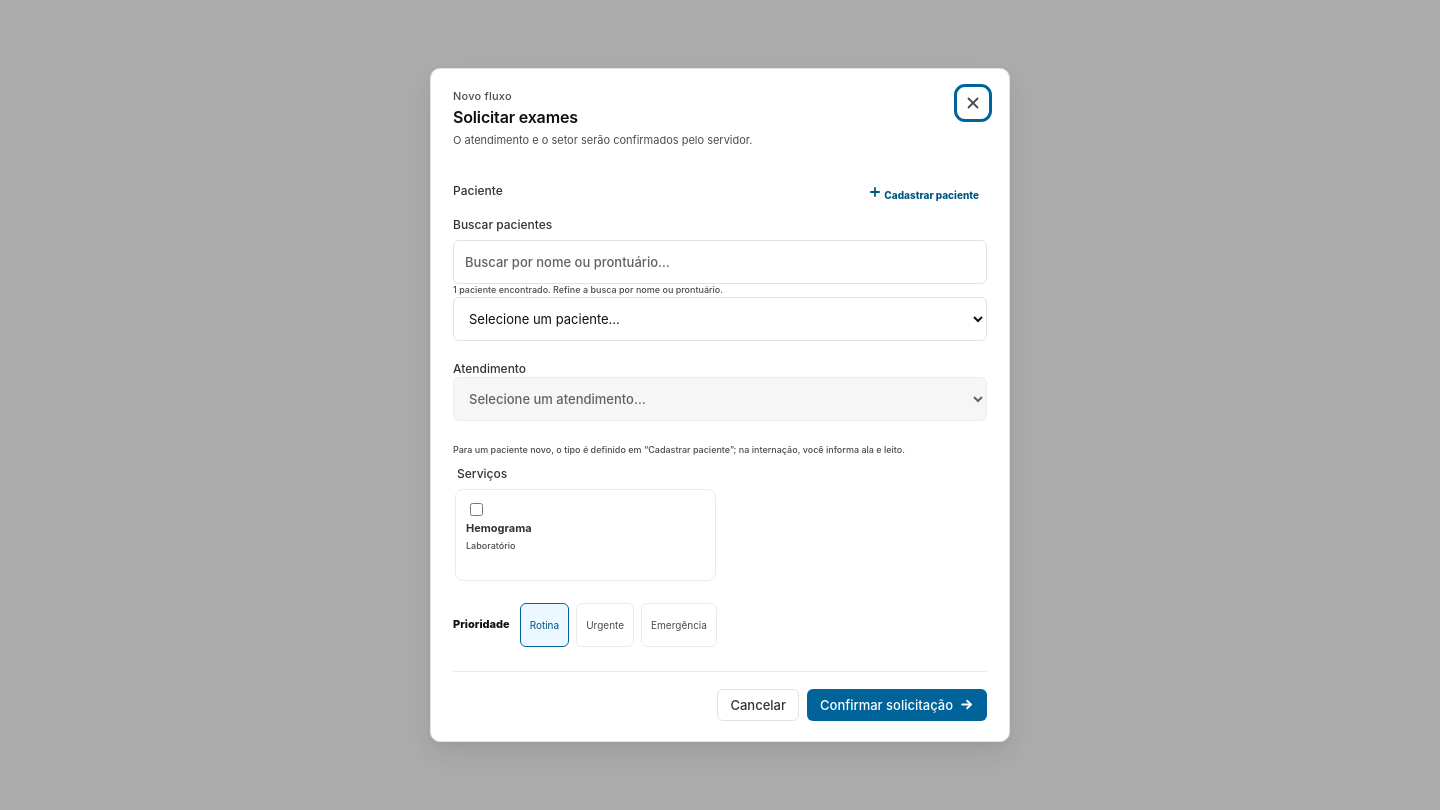
Scenario: RequestDialog patient search › retries the current query and preserves the selected patient and encounter across errors, empty results and clearing
This screenshot has width=1440, height=810.
Select "Thor · Canino · HIS-THOR-001" in the dropdown labelled "Paciente" at [720, 319], box [453, 297, 987, 341]
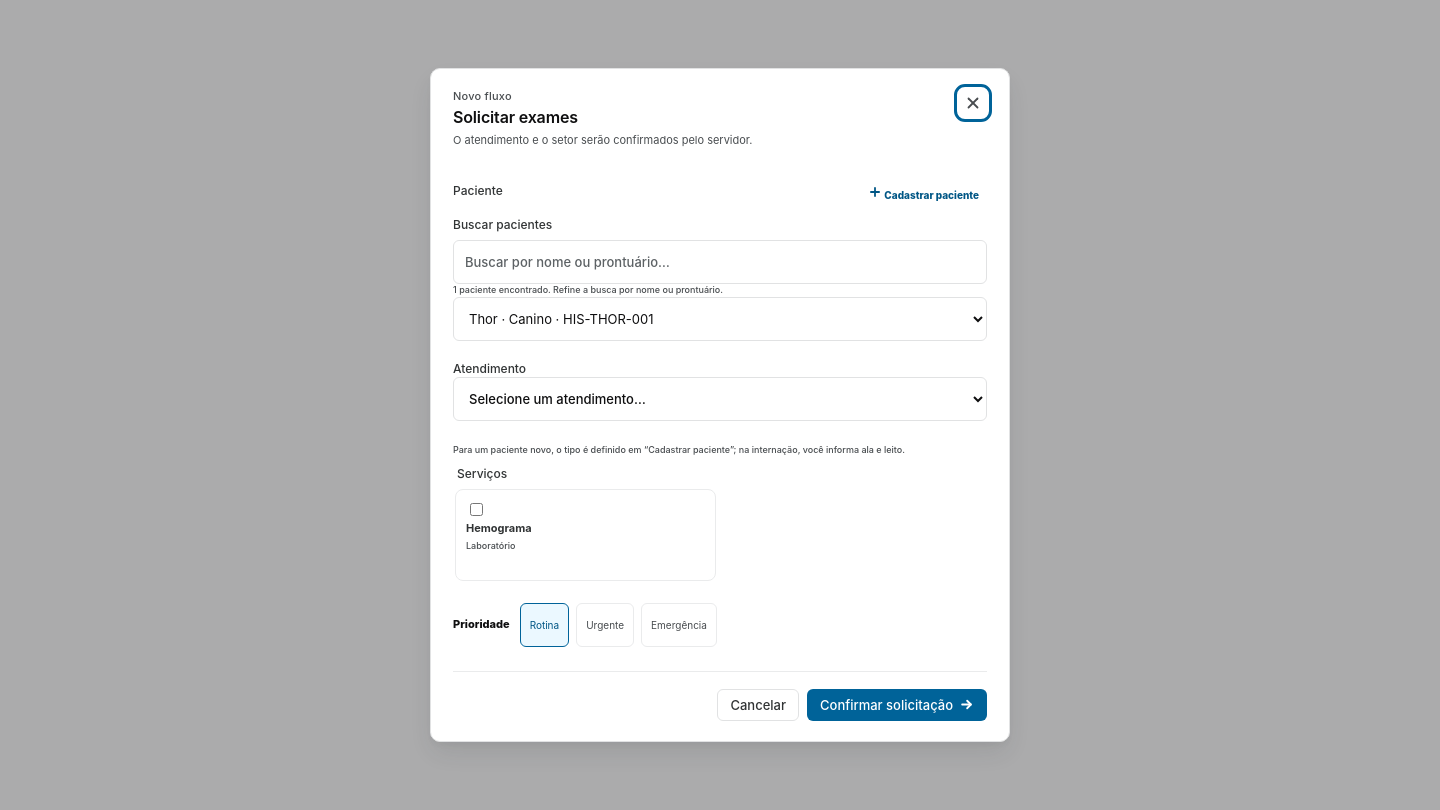
Select "ATD-THOR-002 · Atendimento externo · Em aberto" in the dropdown labelled "Atendimento" at [720, 399], box [453, 377, 987, 421]
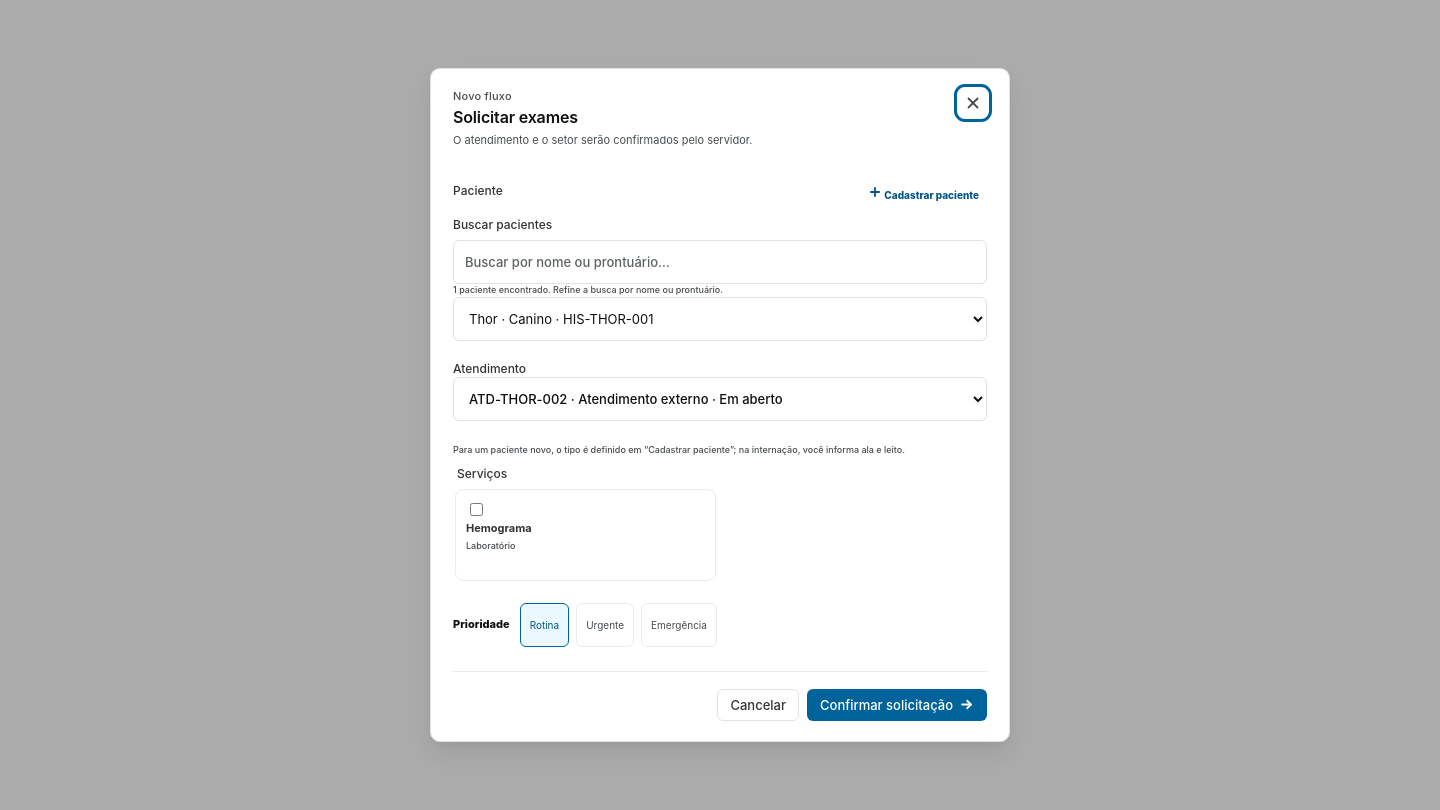
Type "ausente" into the search field labelled "Buscar pacientes" at [720, 262], box [453, 240, 987, 284]
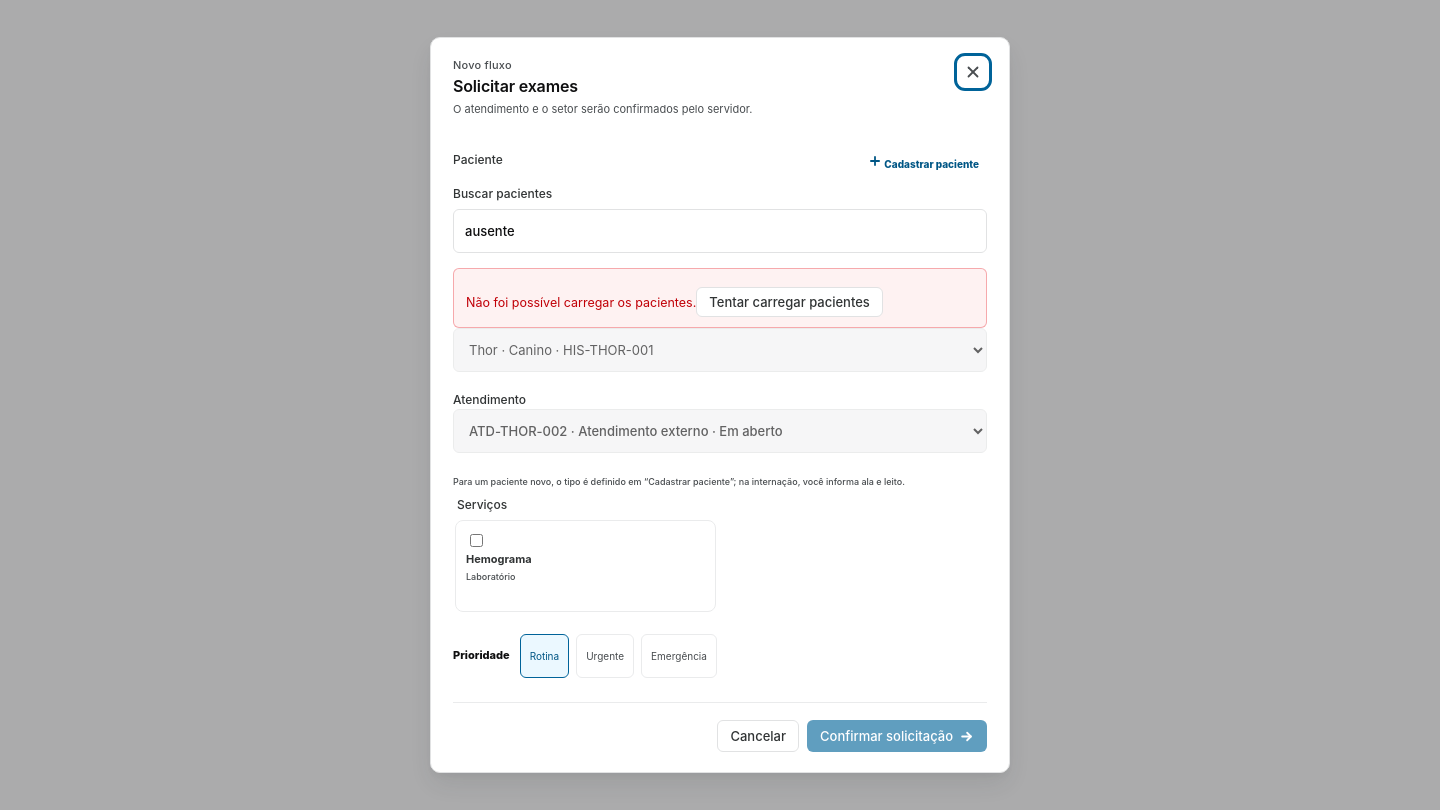
Expected: the message shows "Não foi possível carregar os pacientes.", [466, 295, 696, 310]
Expected: the dropdown labelled "Paciente" is disabled, [453, 328, 987, 372]
Expected: the dropdown labelled "Atendimento" is disabled, [453, 409, 987, 453]
Click the button "Tentar carregar pacientes" at [790, 302], box [696, 287, 883, 317]
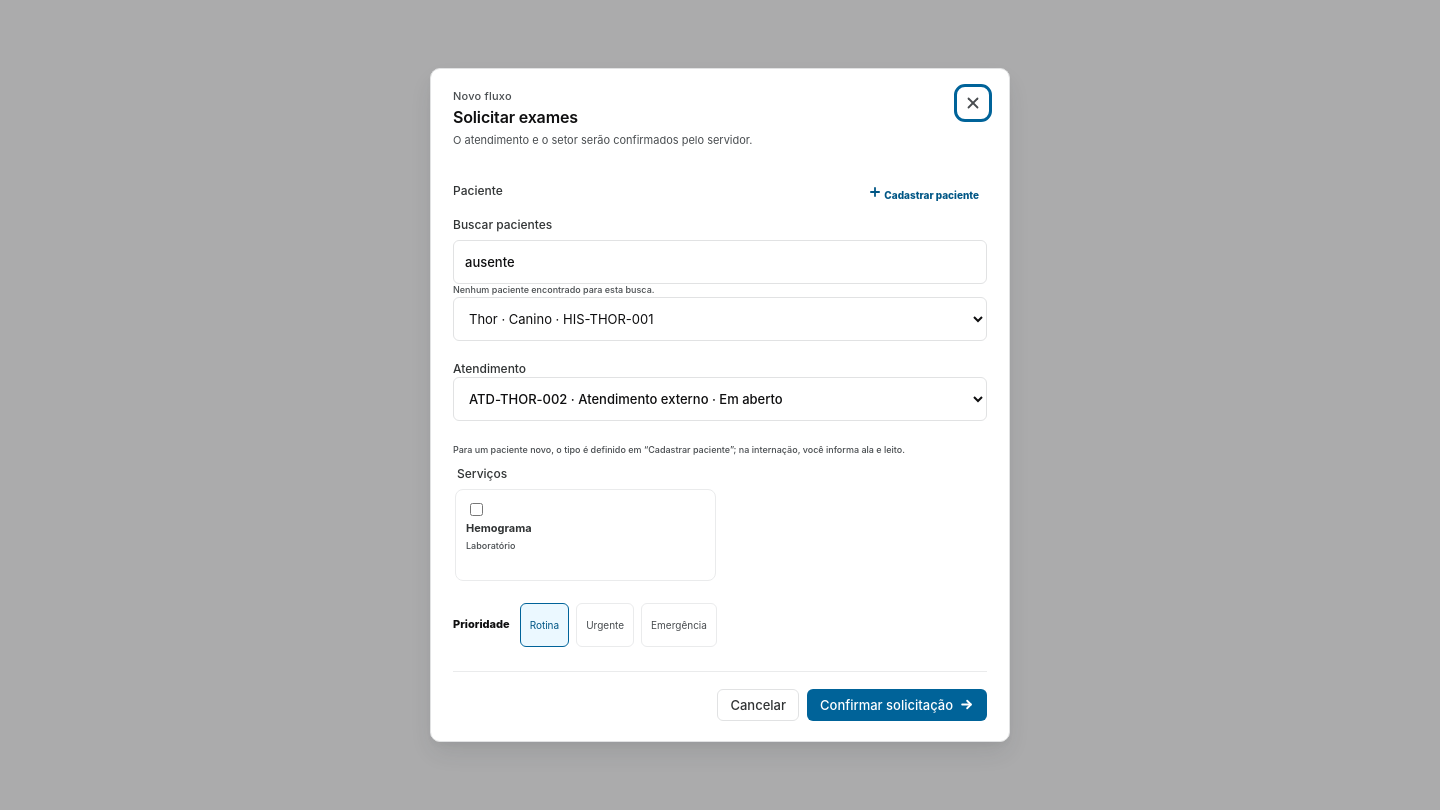
Expected: the text "Nenhum paciente encontrado para esta busca." is shown, [453, 284, 654, 296]
Expected: the dropdown labelled "Paciente" is enabled, [453, 297, 987, 341]
Expected: the dropdown labelled "Atendimento" is enabled, [453, 377, 987, 421]
Clear the search field labelled "Buscar pacientes" at [720, 262], box [453, 240, 987, 284]
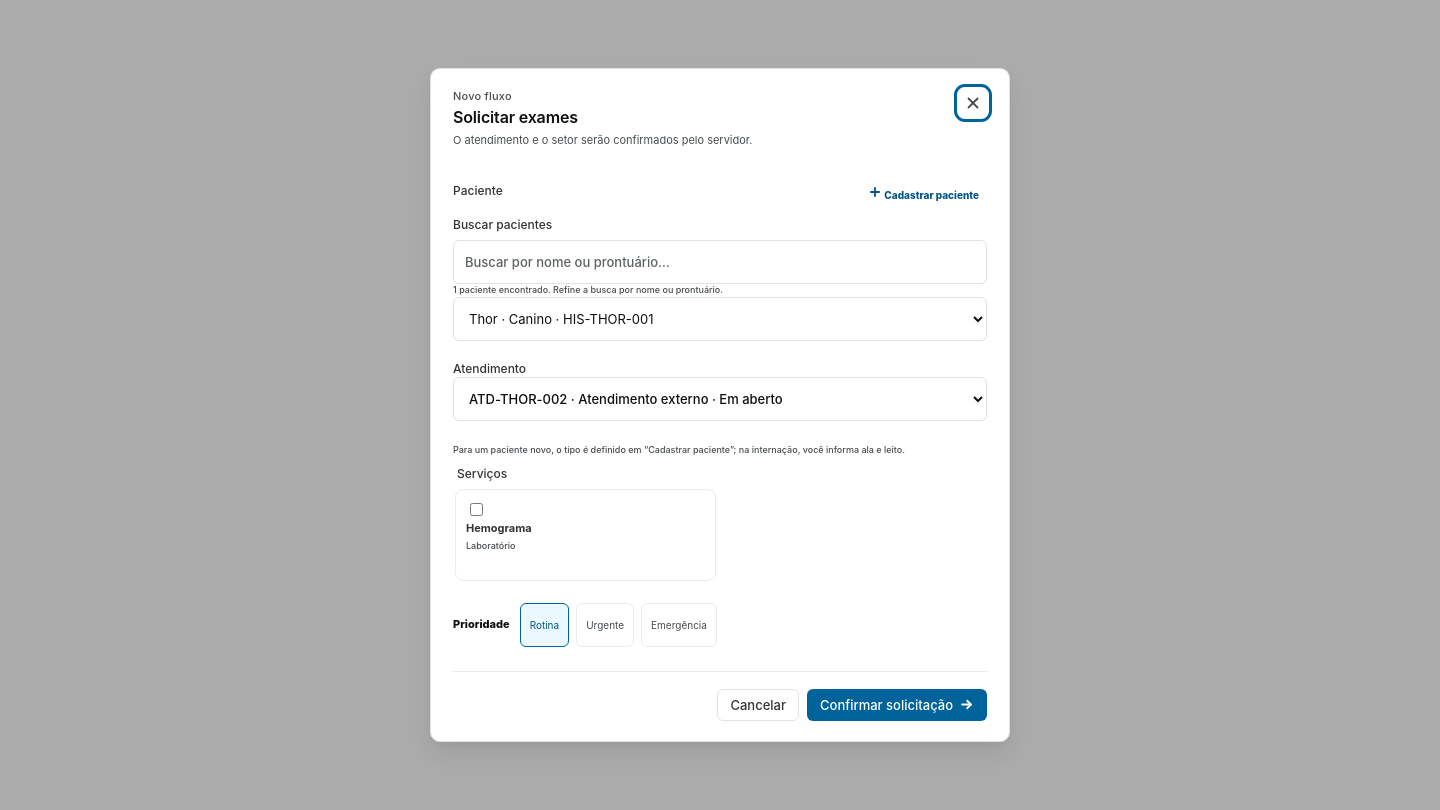
Expected: the dropdown labelled "Paciente" is enabled
Select "Selecione um paciente…" in the dropdown labelled "Paciente" at [720, 319], box [453, 297, 987, 341]
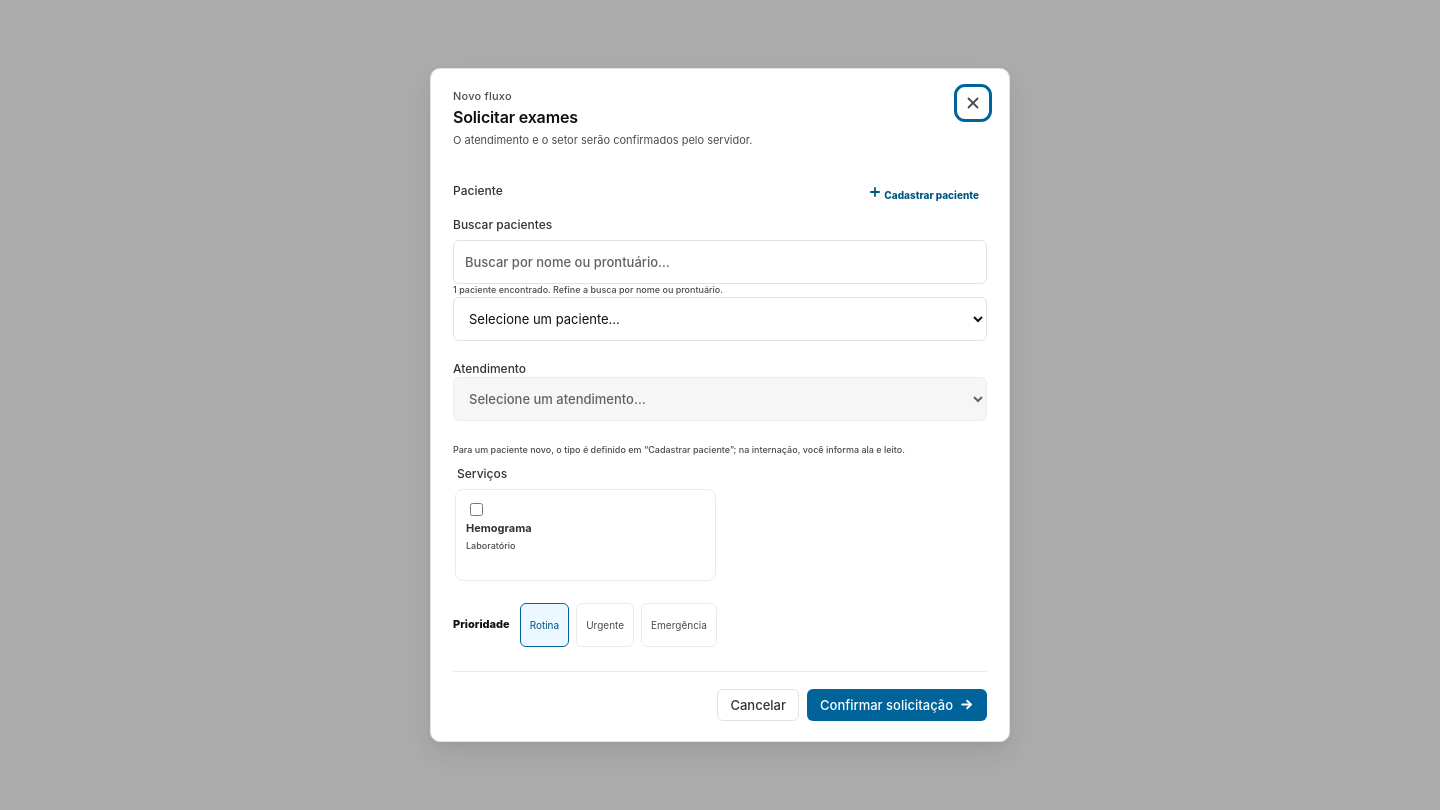
Expected: the dropdown labelled "Atendimento" is disabled, [453, 377, 987, 421]
